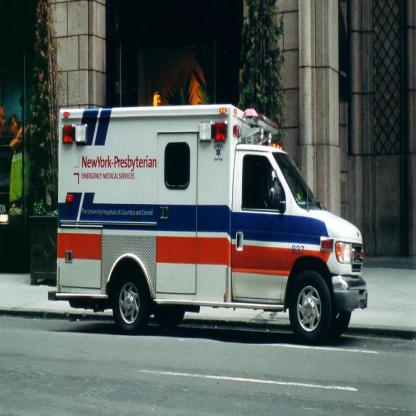Ambulance: (48, 103, 368, 345)
